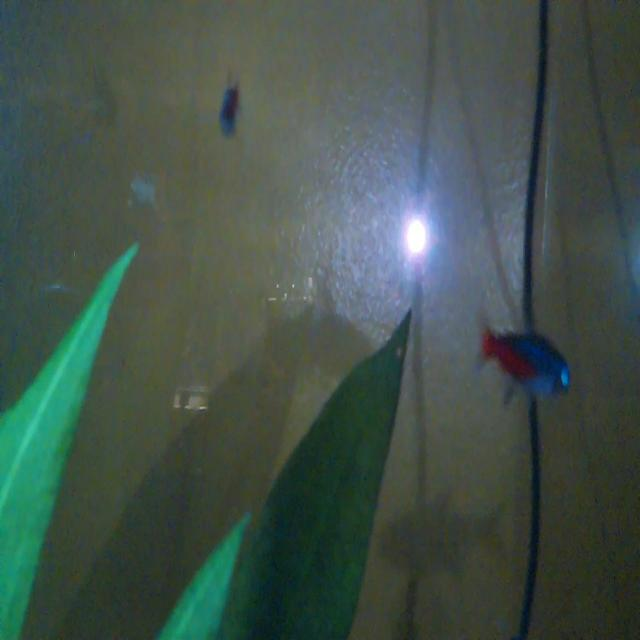fish: (468, 309, 580, 418), (212, 62, 248, 146)
